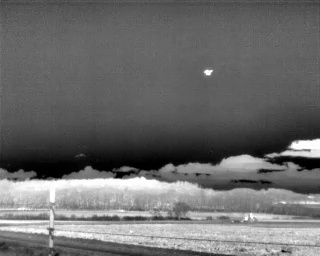DRONE: (200, 65, 216, 79)
